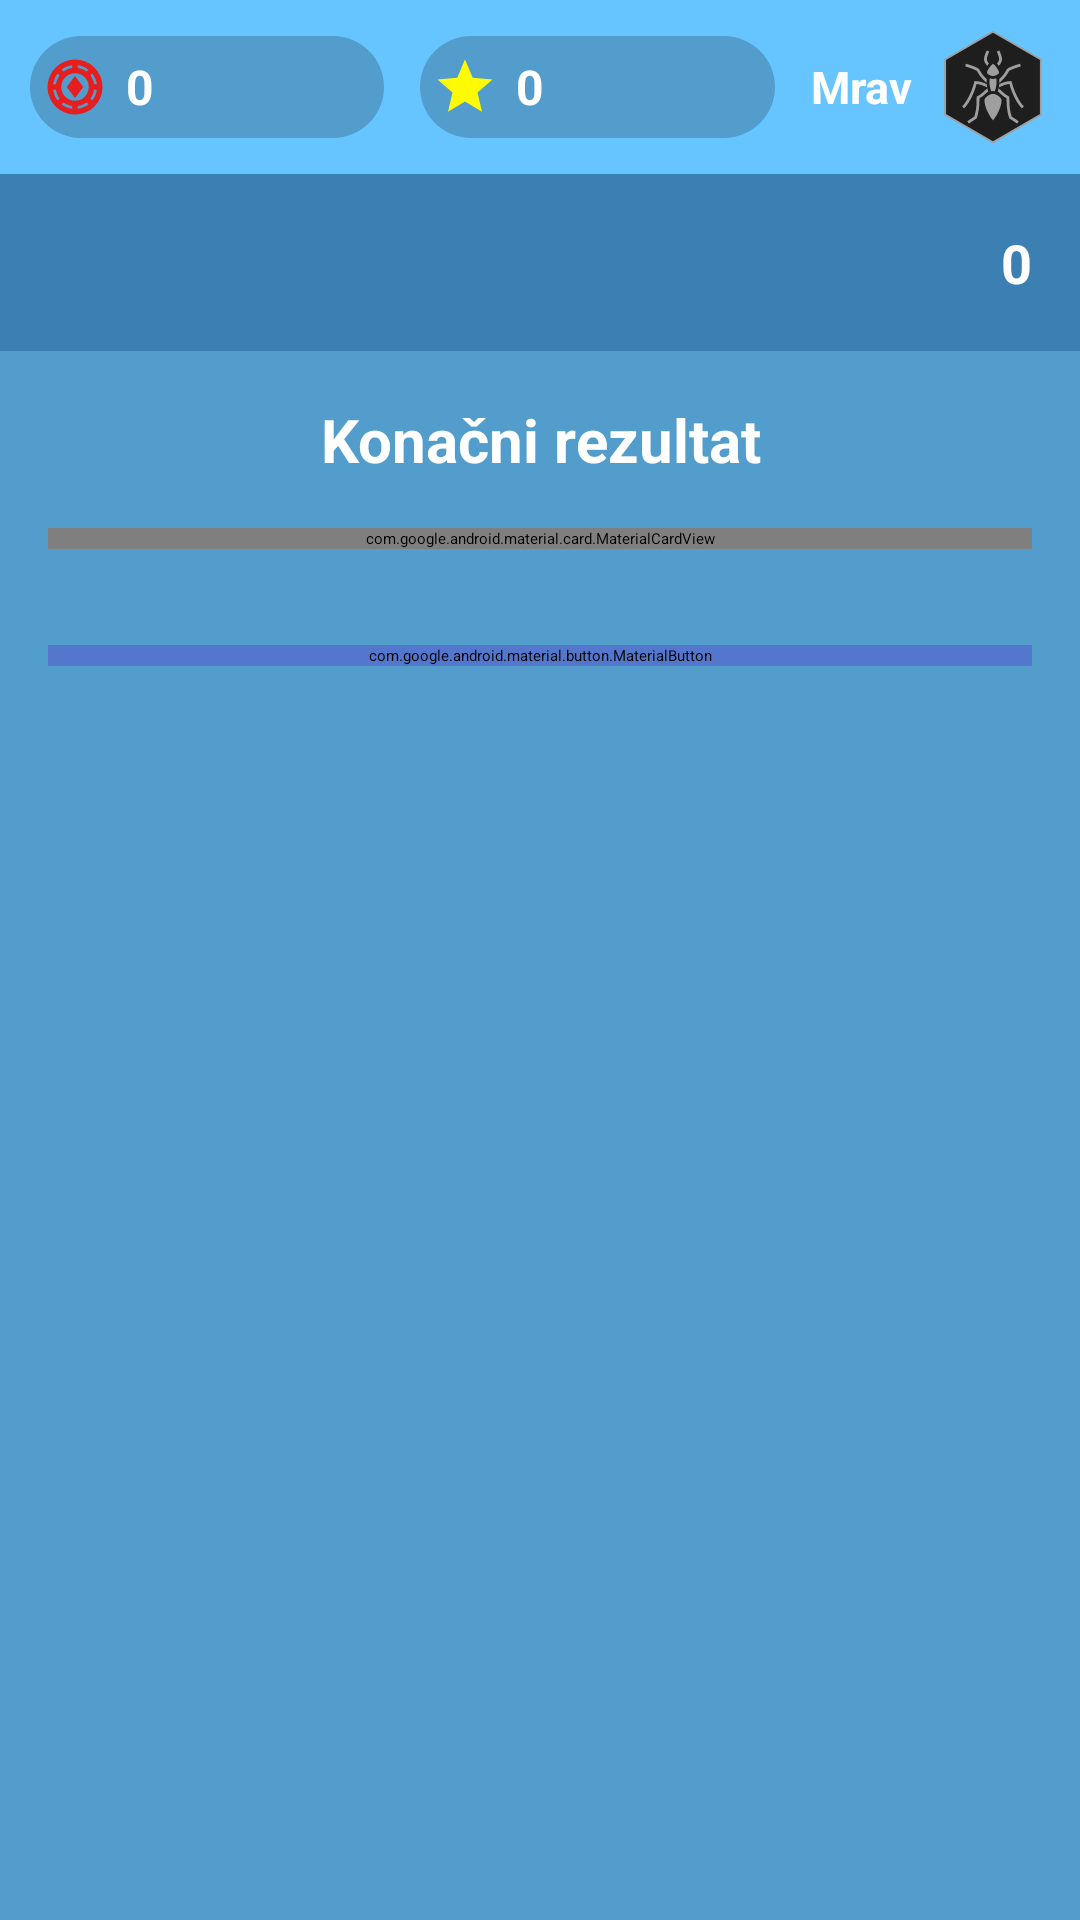

Locate icon controls on the screen. Image size 1080*1920, boxes as (x1, y1, x2, y2).
Liga: (944, 31, 1042, 143)
Tokeni: (47, 59, 103, 115)
Zvezde: (438, 60, 492, 112)
